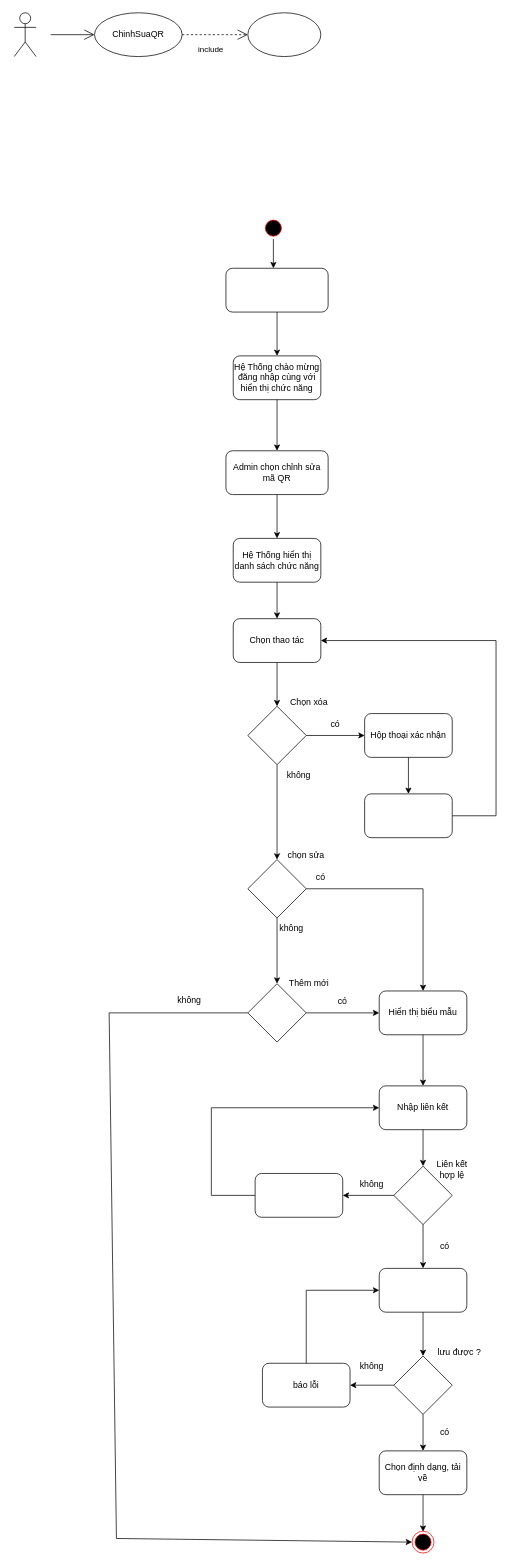
This 515x1566 diagram has some shape labels left out. Here are the shapes that lost their labels. From the top down, the centre of each, then its label:
(x=25, y=34): Admin
(x=284, y=34): Đăng Nhập
(x=276, y=290): Admin chọn chức năng đăng nhập
(x=408, y=815): Xóa và báo thành công
(x=298, y=1195): cảnh báo đỏ tại trường liên kết
(x=423, y=1290): Xem trước, nhấn lưu
